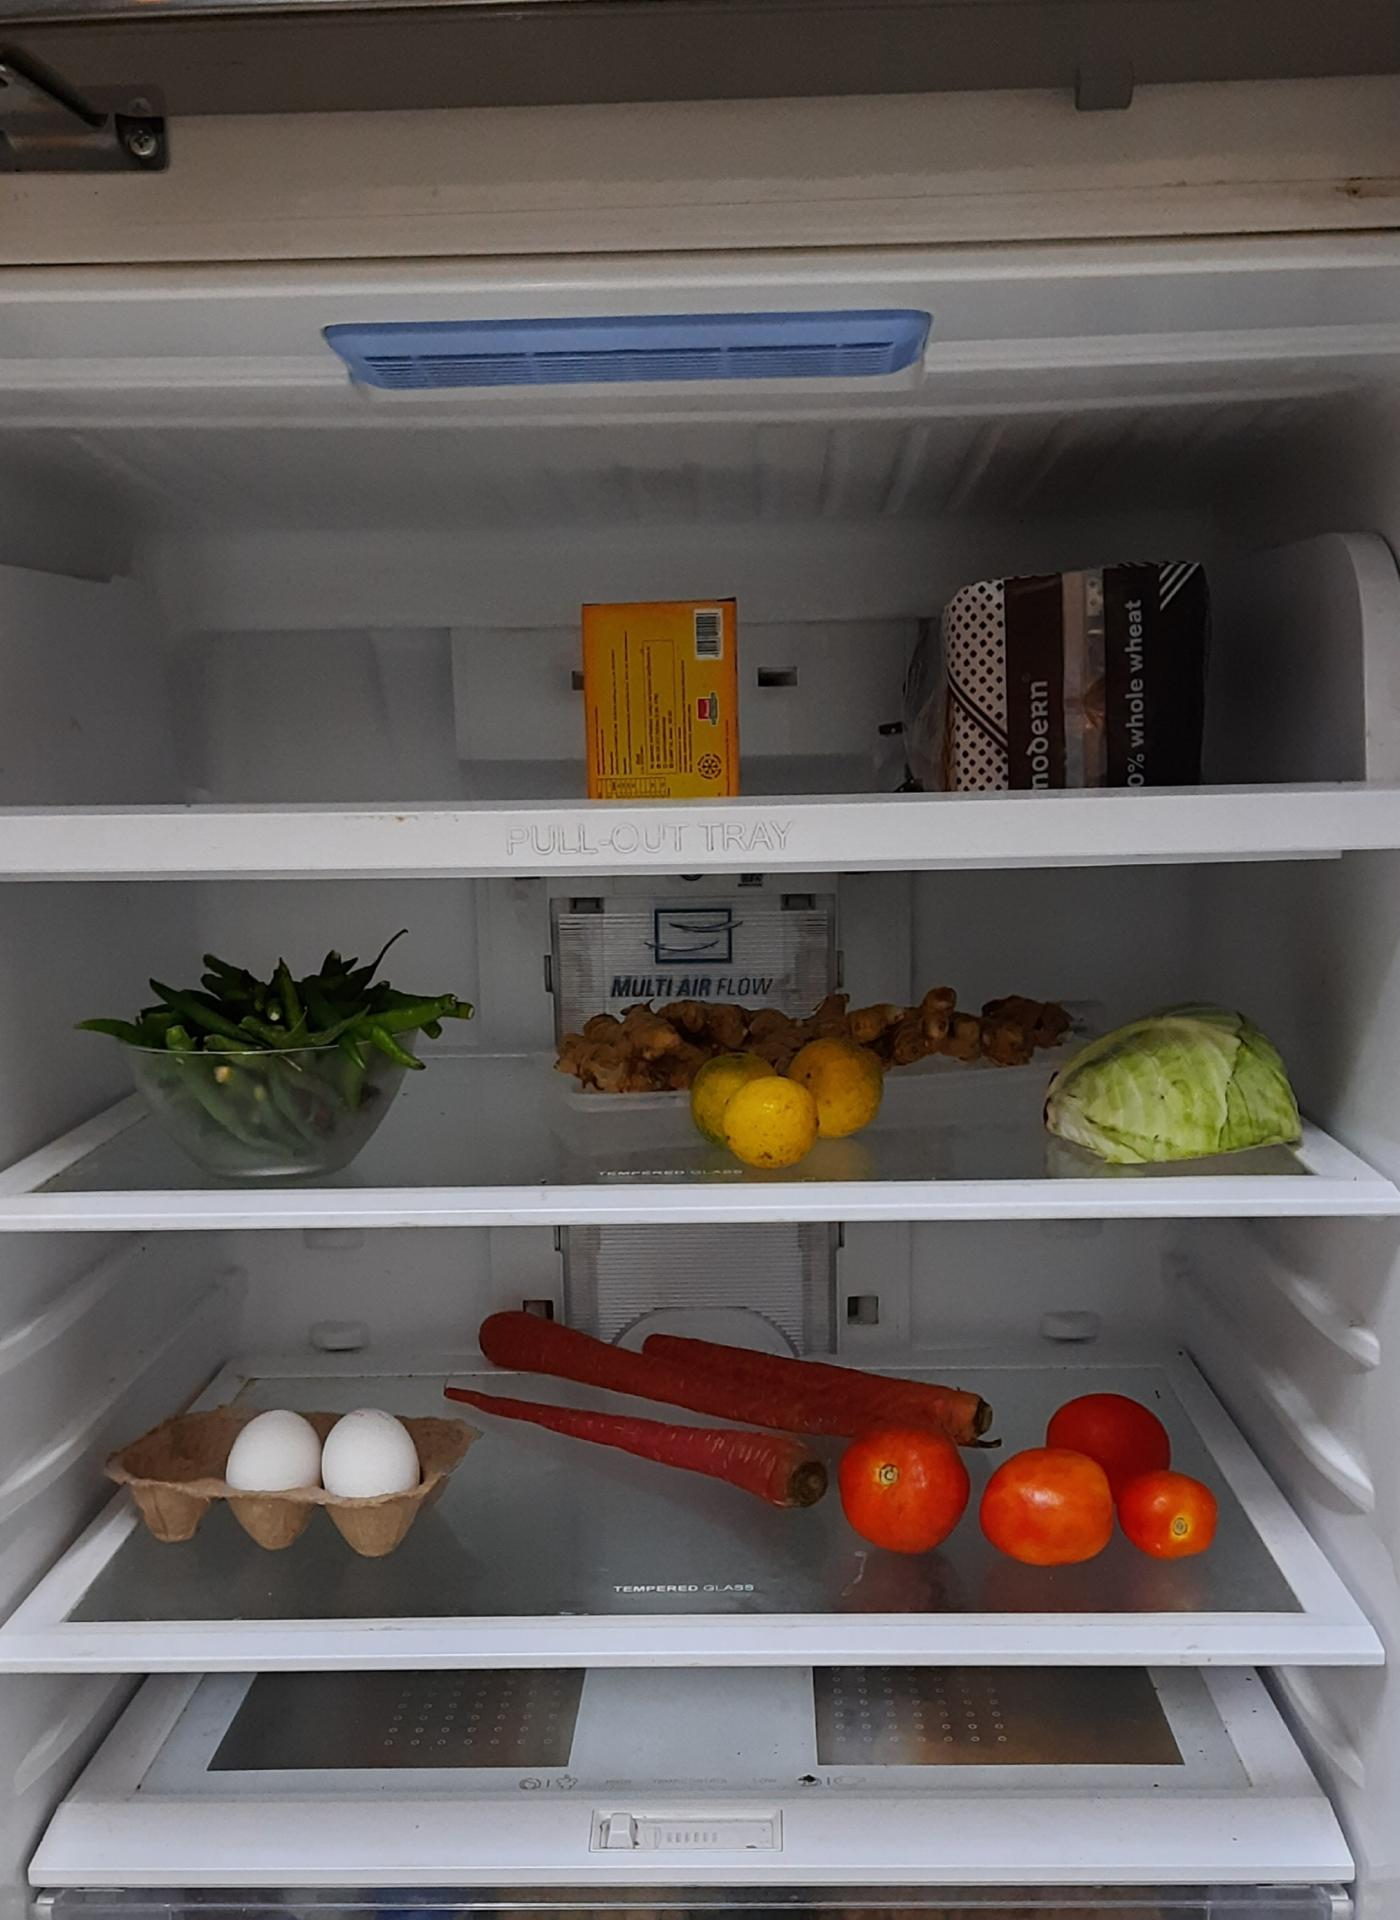bread: (901, 560, 1215, 795)
butter: (578, 593, 740, 798)
cabbage: (1042, 1011, 1305, 1164)
carrots: (468, 1324, 993, 1516)
chillies: (113, 945, 441, 1137)
egg: (219, 1407, 431, 1559)
ginger: (555, 988, 1079, 1090)
lemon: (686, 1038, 890, 1164)
tomato: (980, 1395, 1218, 1567), (832, 1415, 977, 1565)
